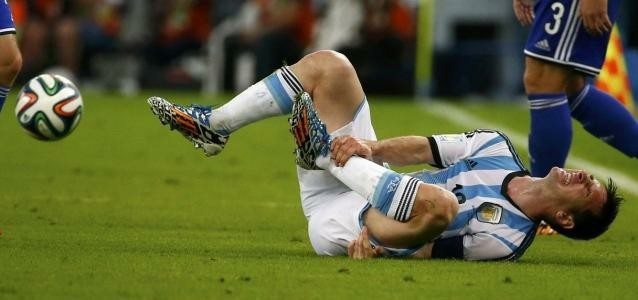falling: (147, 41, 628, 259)
